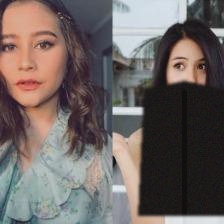Cadar_Niqab: (138, 14, 224, 215)
